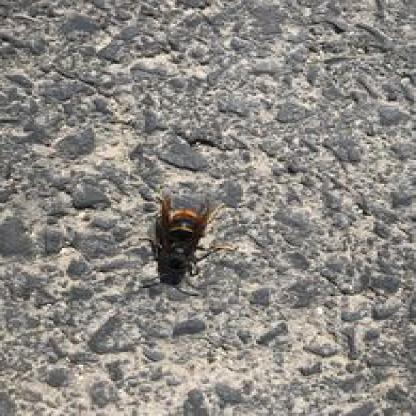Asian Hornet: (136, 189, 221, 280)
